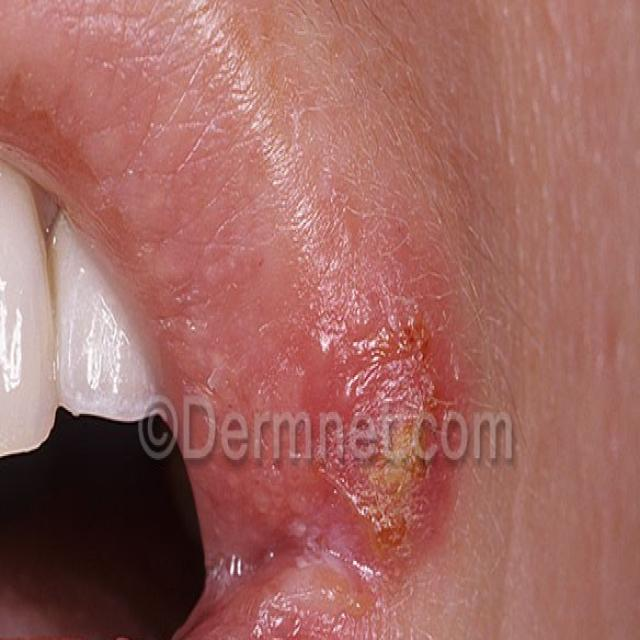Viral Infections: (281, 246, 496, 616)
